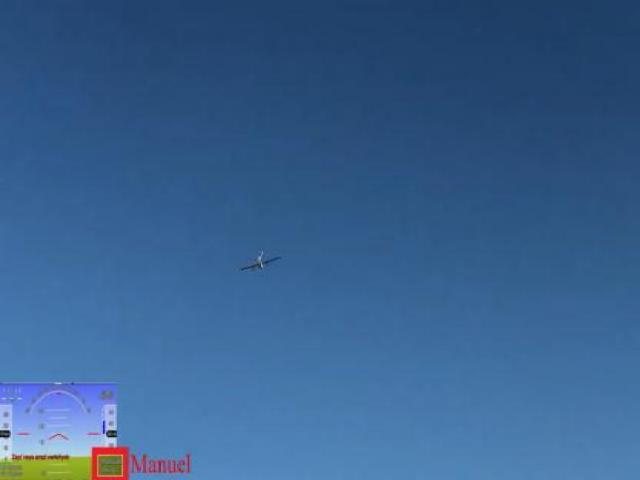uav: (235, 249, 282, 276)
